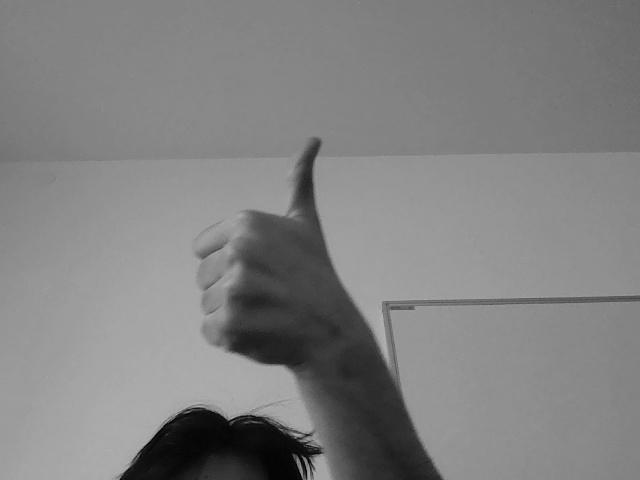friend: (194, 128, 366, 402)
